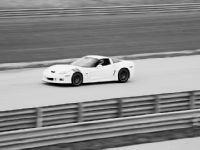car: (43, 50, 136, 90)
